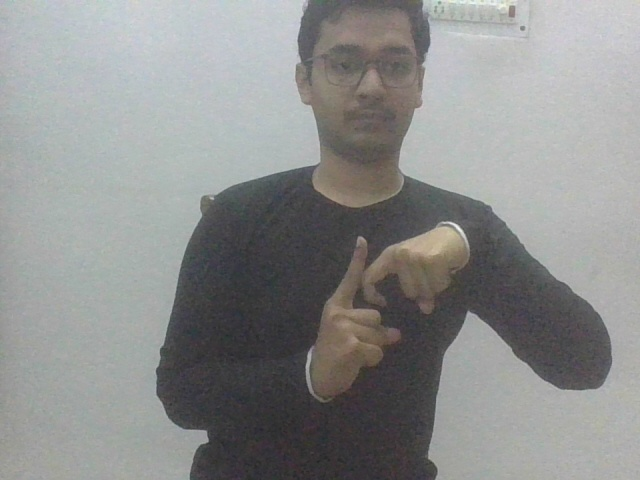K: (305, 218, 472, 404)
